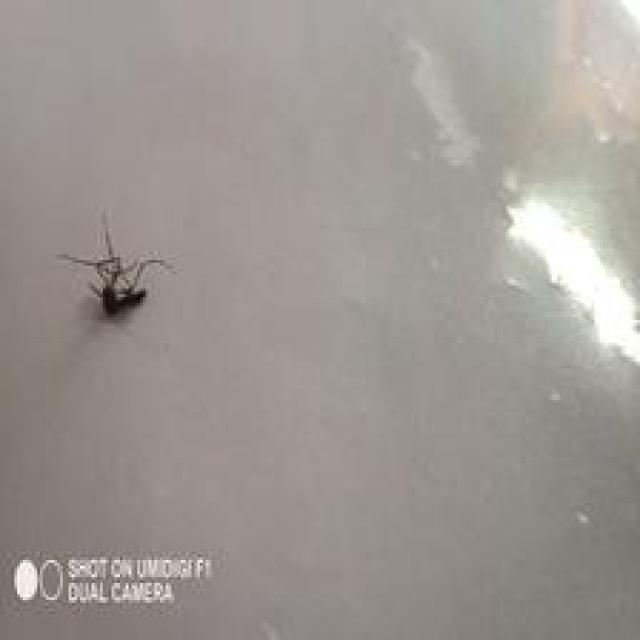Aedes albopictus: (57, 210, 174, 319)
